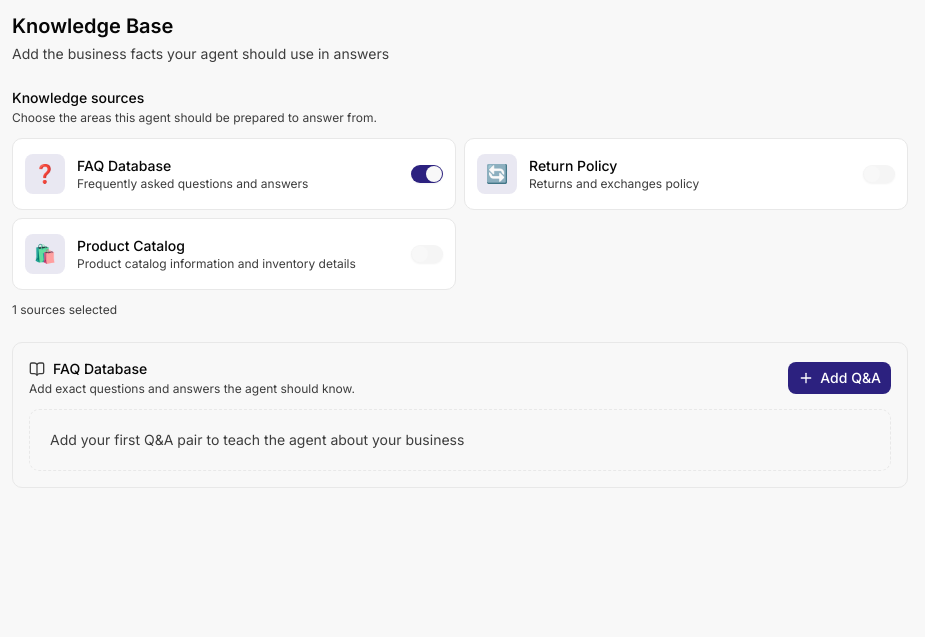
Test: KnowledgeSection › shows a save error and skips knowledge creation when auto-create fails
The image size is (925, 637).
Click the button "Add Q&A" at (840, 378), box [788,362,891,394]
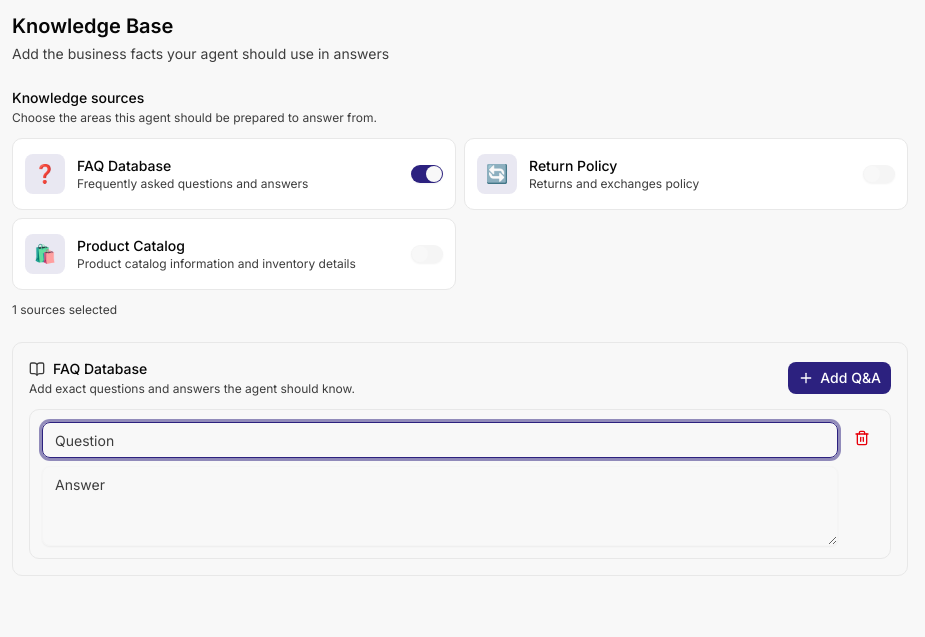
Type "What is your return policy?" into the field with placeholder "Question" at (440, 440), box [42,422,838,458]
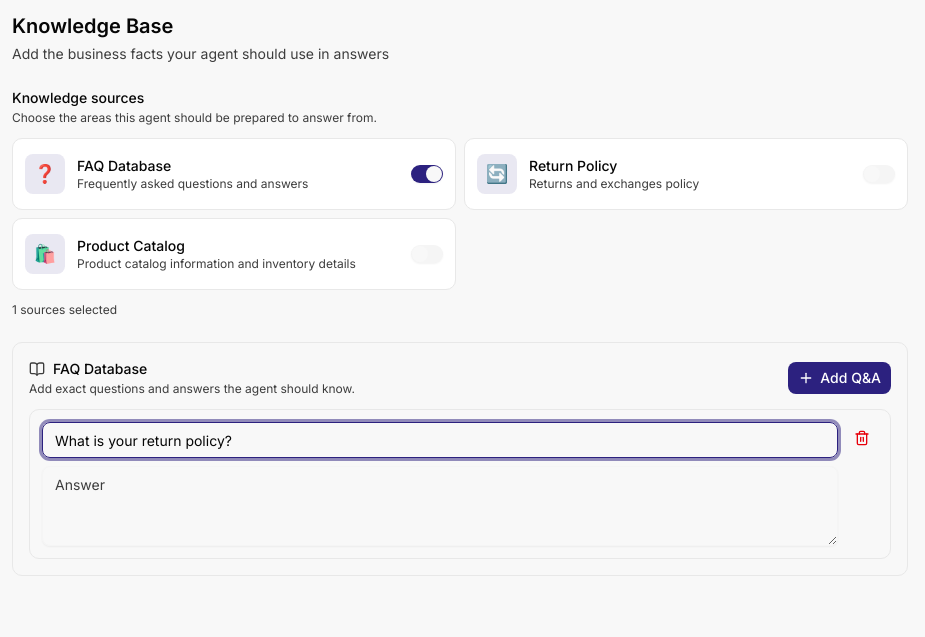
Type "30-day returns" into the text box with placeholder "Answer" at (440, 506), box [42,466,838,546]
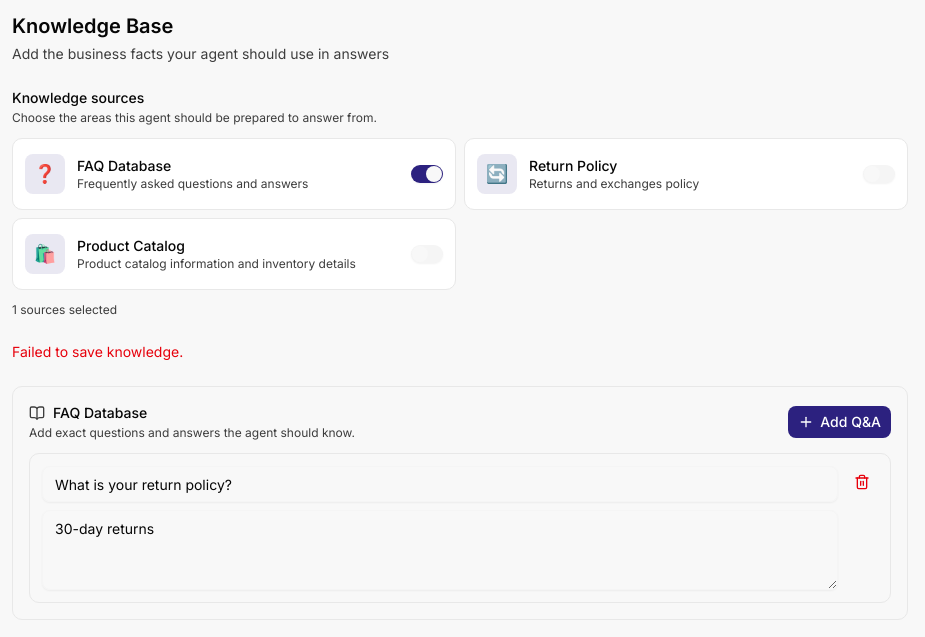
Expected: the text "Failed to save knowledge." is shown, [12,343,183,360]
